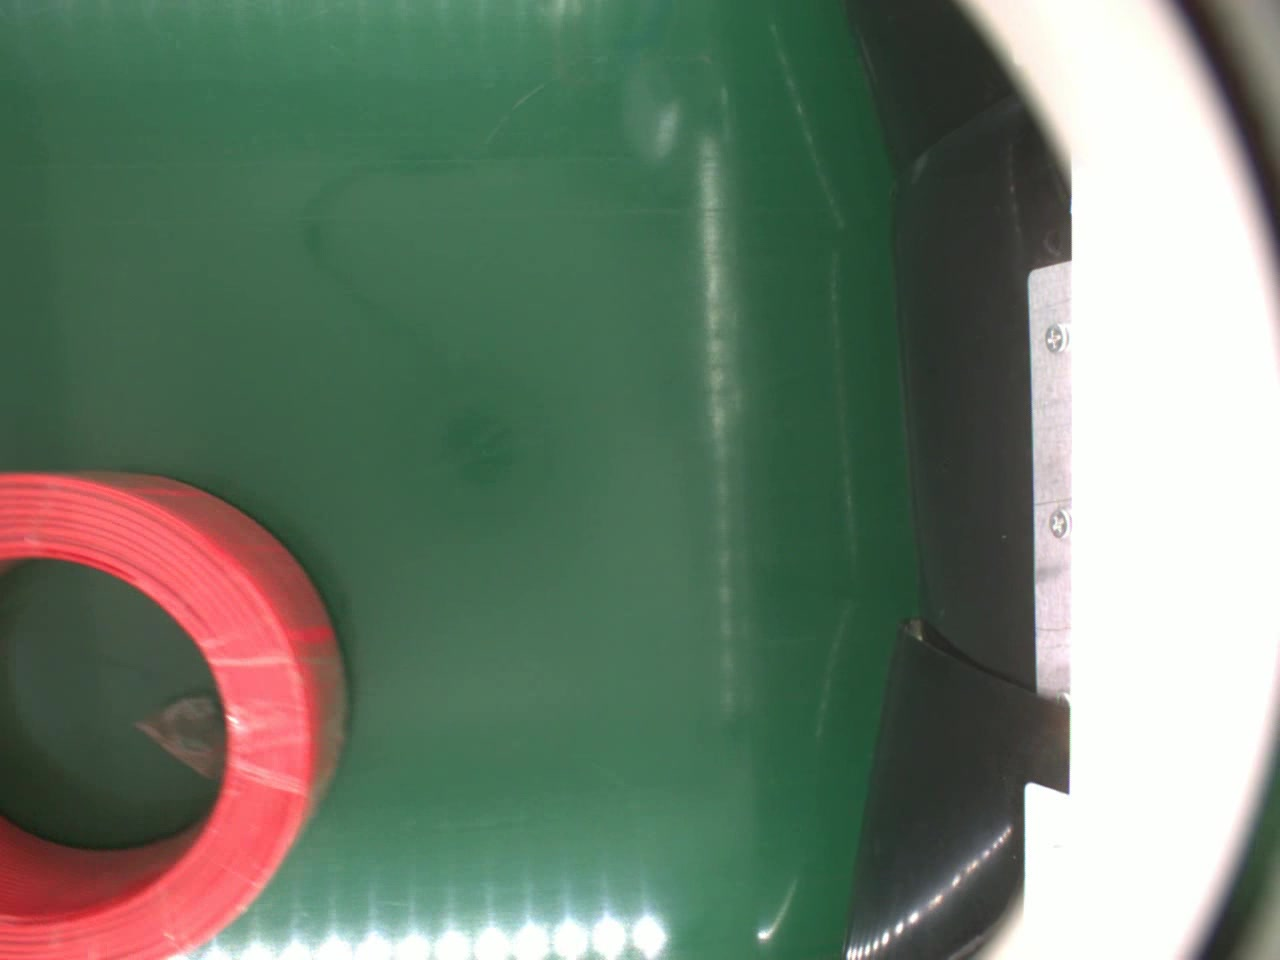red: (0, 460, 352, 960)
